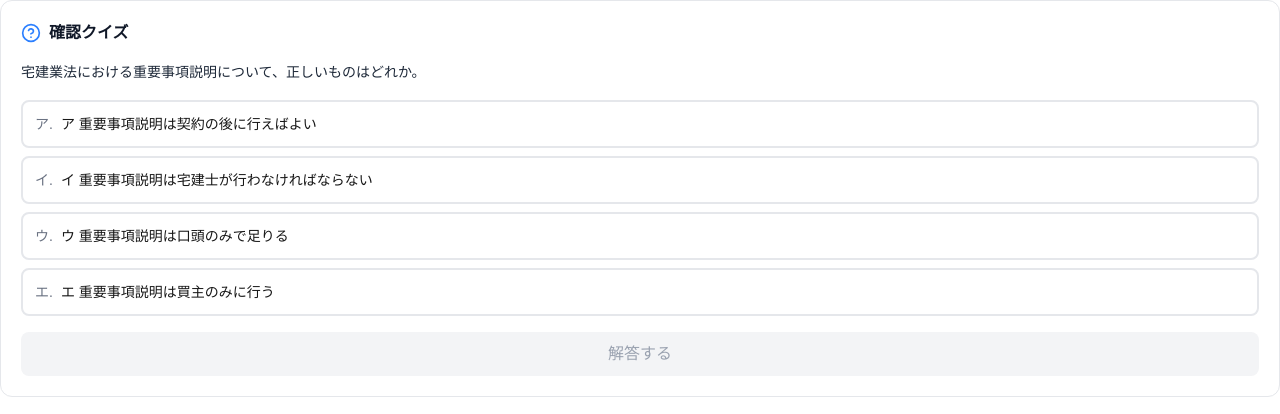
QuizWidget › should enable submit button after selecting a choice
Click the button "イ.イ 重要事項説明は宅建士が行わなければならない": [217, 180] box x1=21 y1=156 x2=1259 y2=204
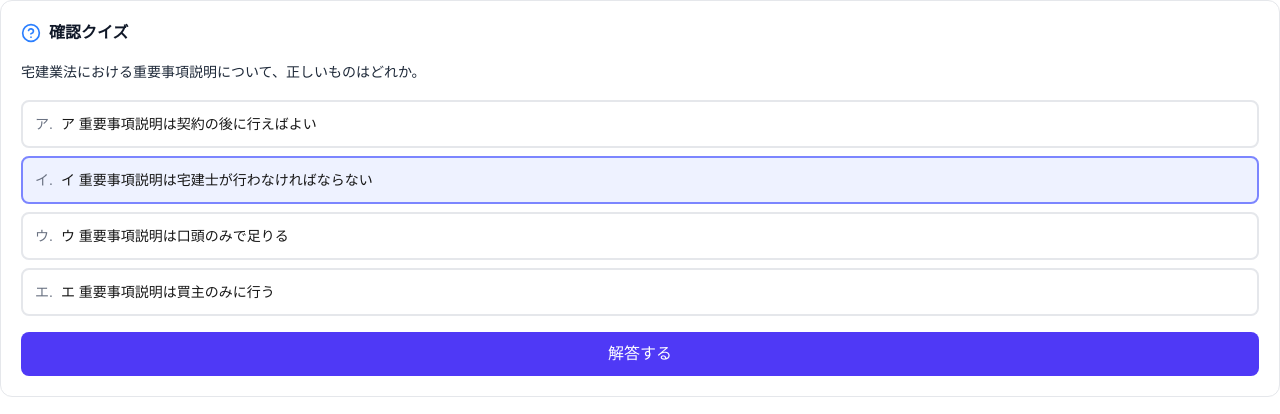
Now the button "解答する" is enabled, box x1=21 y1=332 x2=1259 y2=376
